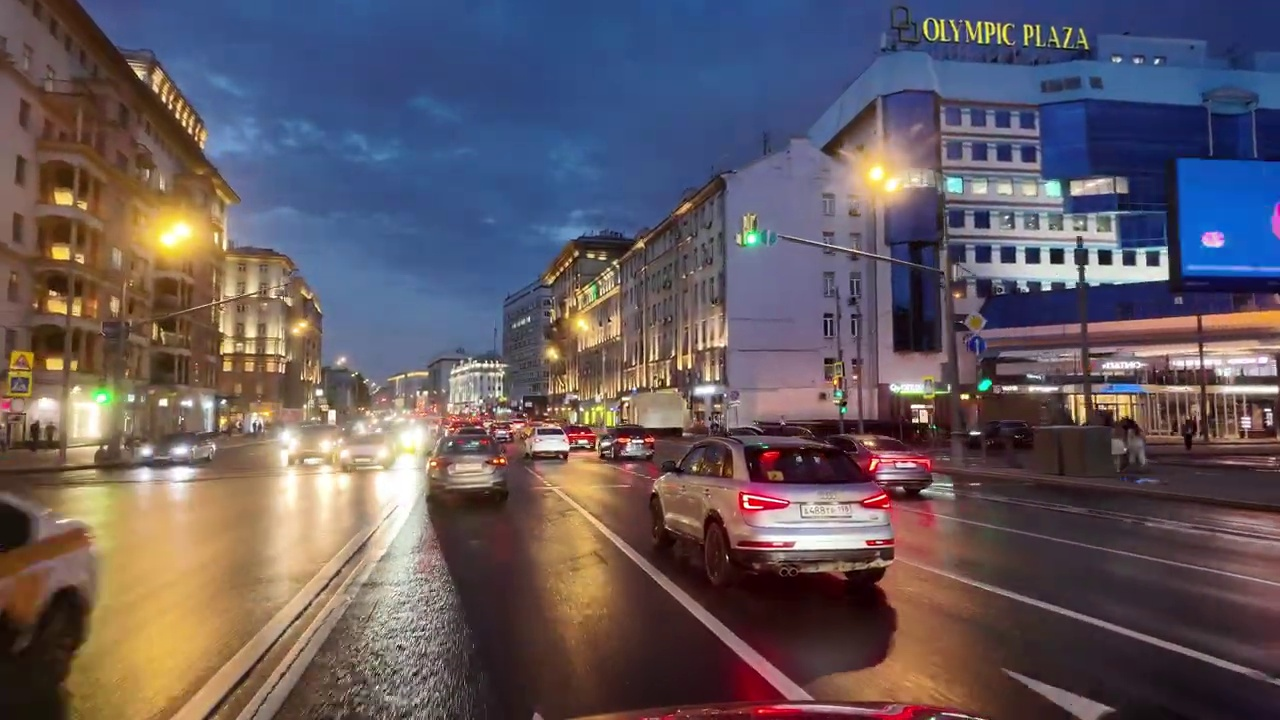acesa: (857, 153, 903, 199), (152, 216, 201, 258)
